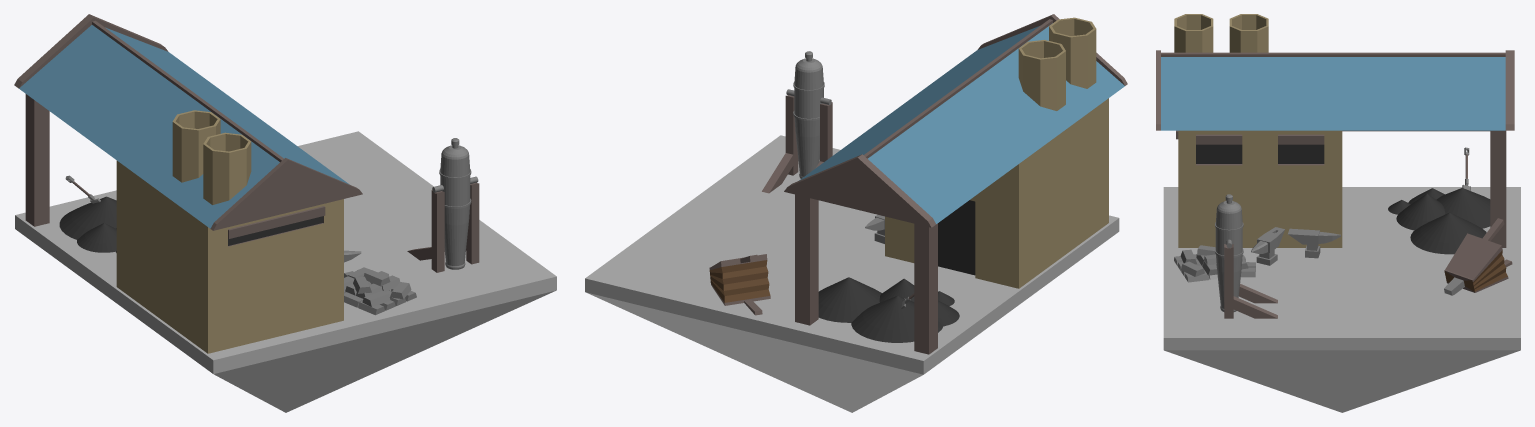
The model's file is Building Forge T2.fbx.
3 views of the same model, side by side, from view 1: azimuth 30°, elevation 25°; view 2: azimuth 150°, elevation 25°; view 3: azimuth 270°, elevation 25° (orthographic). The views are drawn at different scales.
Visible parts, largest first — view 1: Cube; view 2: Cube; view 3: Cube.
Boxes of the visible parts, bbox=[...] form: Cube: bbox=[14, 14, 556, 412]; Cube: bbox=[585, 14, 1127, 412]; Cube: bbox=[1156, 14, 1520, 412].
Size of the model in its own units: 1620 by 1623 by 1633.
